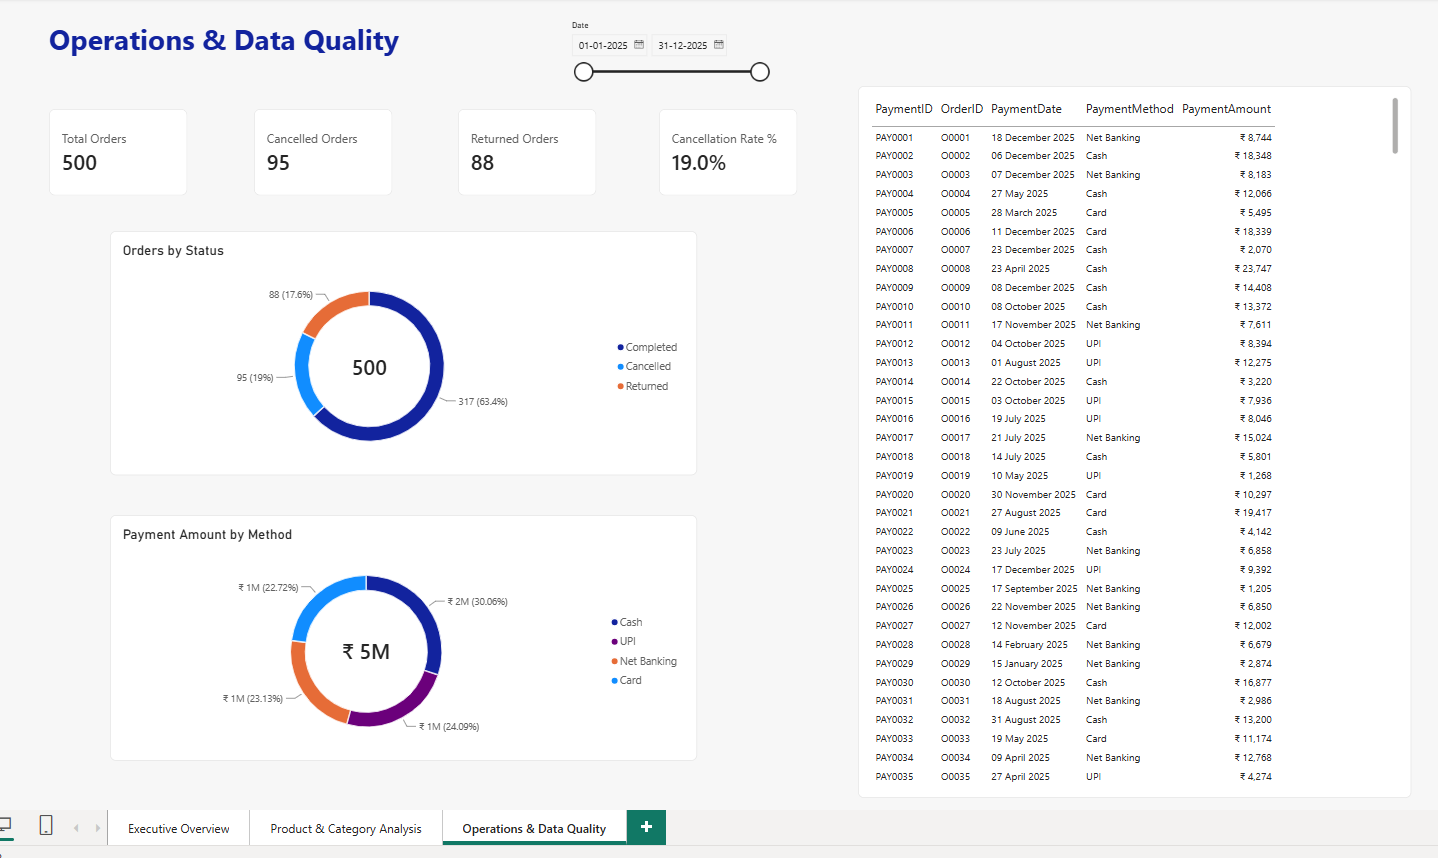

This screenshot's page, from the dashboard's own definition file:
{"tool":"powerbi","page":{"name":"Operations & Data Quality","canvas":[1920,1080],"ordinal":2},"visuals":[{"type":"cardVisual","fields":{"Data":["orders.Total Orders"]},"box":[65.2,147.6,184.9,115.7],"z":0},{"type":"cardVisual","fields":{"Data":["Sales.Cancelled Orders"]},"box":[337.8,147.6,184.9,115.7],"z":1000},{"type":"cardVisual","fields":{"Data":["Sales.Returned Orders"]},"box":[609.2,147.6,184.9,115.7],"z":2000},{"type":"cardVisual","fields":{"Data":["Sales.Cancellation Rate %"]},"box":[876.5,147.6,184.9,115.7],"z":3000},{"type":"donutChart","title":"Orders by Status","fields":{"Category":["orders.Status"],"Y":["orders.Total Orders"]},"box":[146.3,309.9,780.7,324.5],"z":4000},{"type":"donutChart","title":"Payment Amount by Method","fields":{"Category":["payments.PaymentMethod"],"Y":["Sum(payments.PaymentAmount)"]},"box":[146.3,687.6,780.7,327.2],"z":5000},{"type":"tableEx","fields":{"Values":["payments.PaymentID","payments.OrderID","payments.PaymentDate","payments.PaymentMethod","payments.PaymentAmount"]},"box":[1141.2,117,735.5,947],"z":6000},{"type":"textbox","box":[65.2,29.3,525.4,87.8],"z":7000},{"type":"slicer","fields":{"Values":["Date.Date"]},"box":[752.8,29.3,274,118.4],"z":8000}]}

Visuals, with their boxes on the page's 1920x1080 design canvas (x1, y1, x2, y2). These are canvas units, not pixel positions in the 1438x858 screenshot, which may show the page scaled, cropped or inside an application window:
cardVisual - orders.Total Orders: <region>65, 148, 250, 263</region>
cardVisual - Sales.Cancelled Orders: <region>338, 148, 523, 263</region>
cardVisual - Sales.Returned Orders: <region>609, 148, 794, 263</region>
cardVisual - Sales.Cancellation Rate %: <region>876, 148, 1061, 263</region>
"Orders by Status" donutChart: <region>146, 310, 927, 634</region>
"Payment Amount by Method" donutChart: <region>146, 688, 927, 1015</region>
tableEx - payments.PaymentID x payments.OrderID: <region>1141, 117, 1877, 1064</region>
textbox: <region>65, 29, 591, 117</region>
slicer - Date.Date: <region>753, 29, 1027, 148</region>
